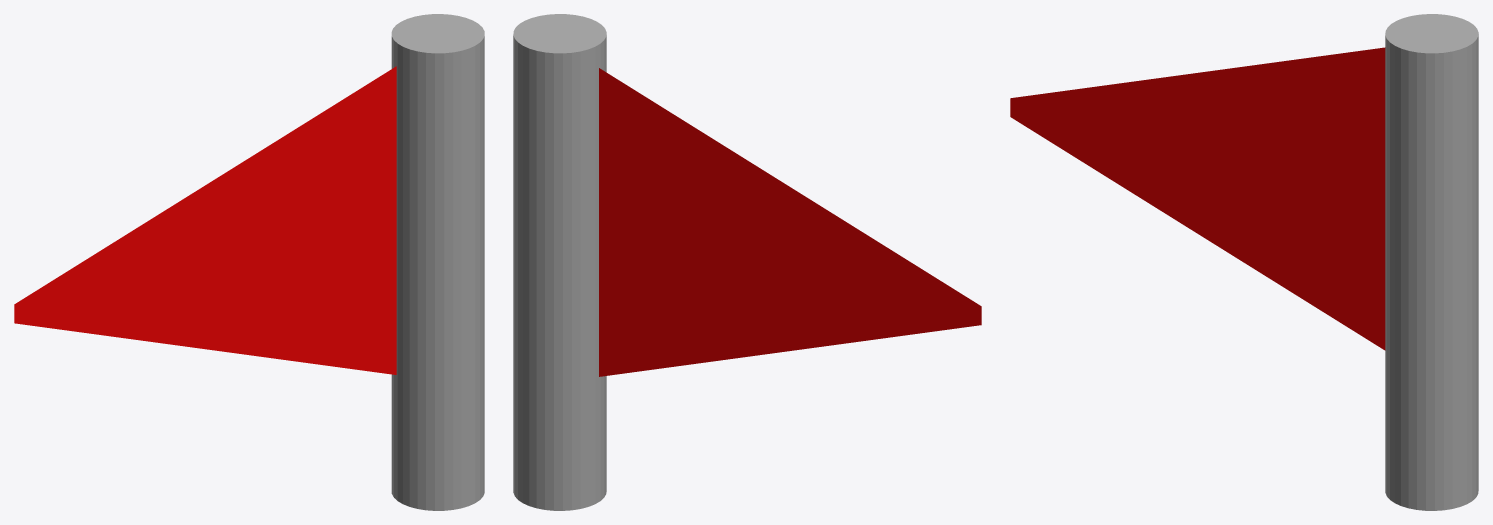
File: goal.obj
The picture shows the model from 3 angles, left to right: view 1: azimuth 30°, elevation 25°; view 2: azimuth 150°, elevation 25°; view 3: azimuth 330°, elevation 25°; orthographic projection.
Parts seen in each view (by area): view 1: 円柱; view 2: 円柱; view 3: 円柱.
Boxes of the visible parts, x1,y1,x2,y2 form: 円柱: (14, 14, 484, 510); 円柱: (513, 14, 981, 510); 円柱: (1010, 14, 1478, 510).
Bounding box in the file's own units: 1.17 × 1.1 × 0.2037.
